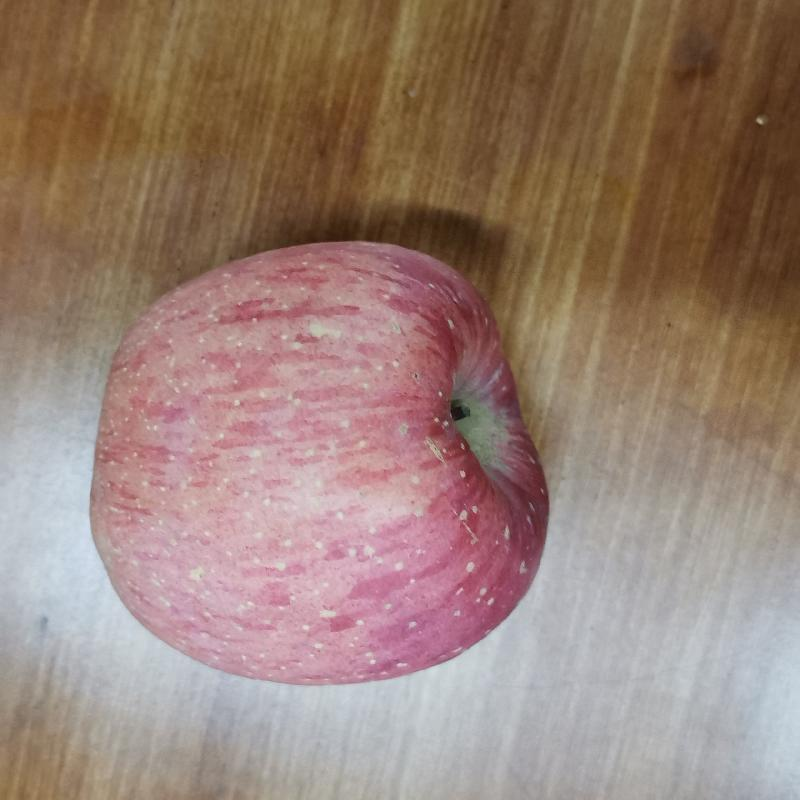apples: (46, 218, 555, 700)
